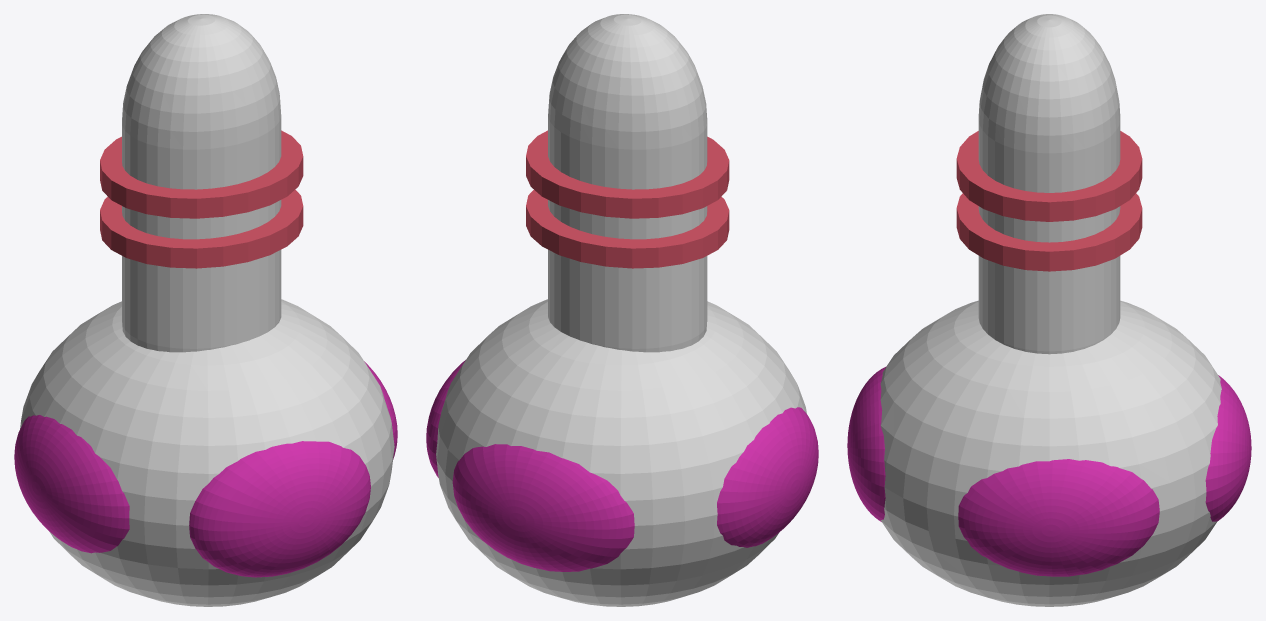
File: pins.glb
The picture shows the model from 3 angles, left to right: view 1: azimuth 30°, elevation 25°; view 2: azimuth 150°, elevation 25°; view 3: azimuth 270°, elevation 25°; orthographic projection.
Visible parts, largest first — view 1: Mesh_Mesh_head_geo.001_lambert2SG.001; view 2: Mesh_Mesh_head_geo.001_lambert2SG.001; view 3: Mesh_Mesh_head_geo.001_lambert2SG.001.
Part boxes in pixels (left/top/right/bottom): Mesh_Mesh_head_geo.001_lambert2SG.001: left=14, top=14, right=397, bottom=606; Mesh_Mesh_head_geo.001_lambert2SG.001: left=426, top=14, right=818, bottom=606; Mesh_Mesh_head_geo.001_lambert2SG.001: left=847, top=14, right=1251, bottom=606.
Bounding box in the file's own units: 36 × 57 × 37.
